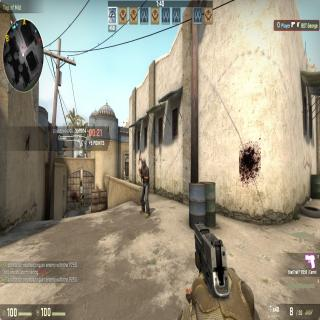T-Body: (138, 157, 150, 217)
T-Head: (140, 158, 146, 168)
